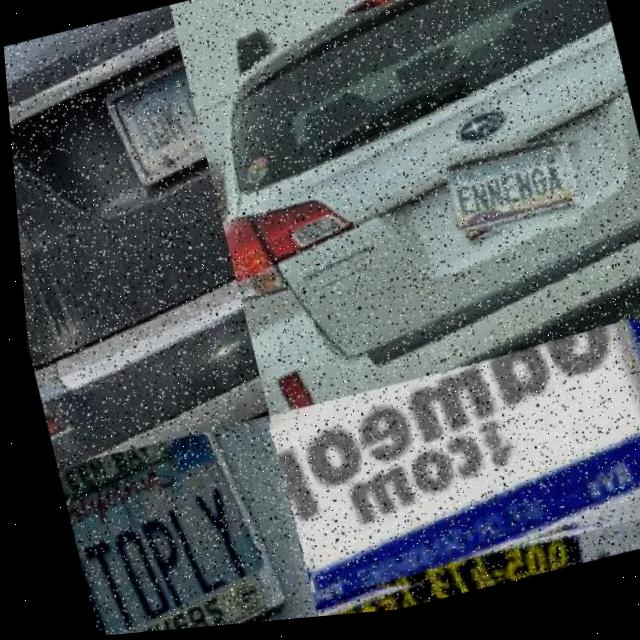LicensePlate: (256, 329, 640, 608), (47, 418, 298, 639), (290, 476, 640, 622), (103, 60, 202, 189), (443, 153, 576, 240)
